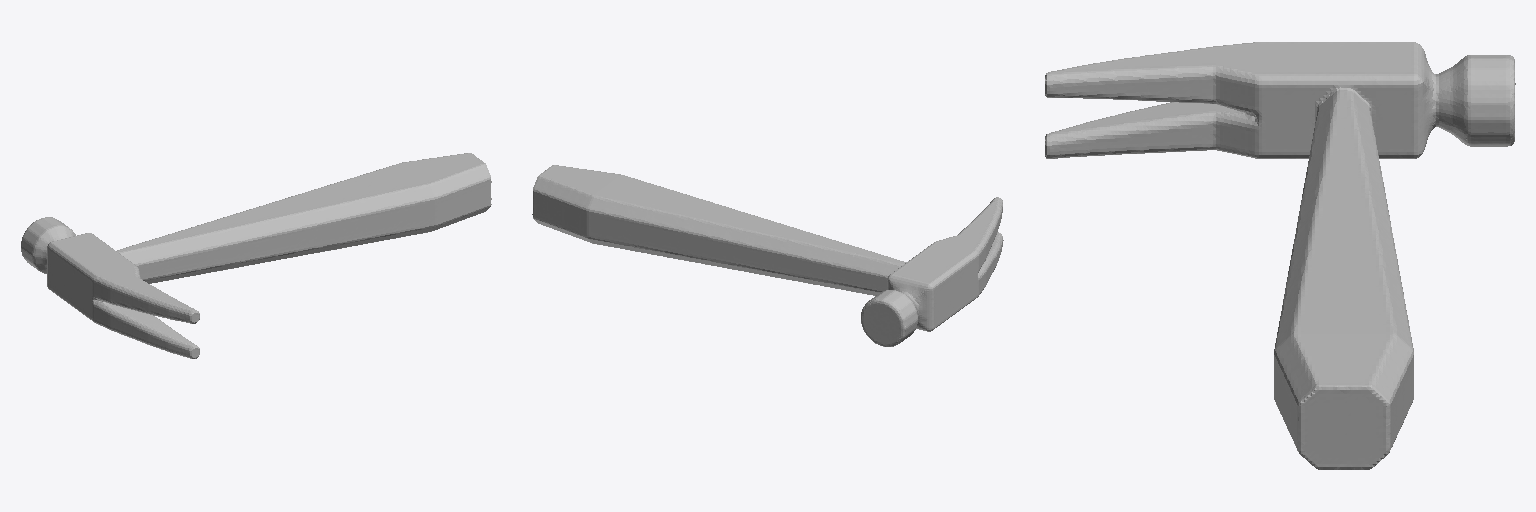
URDF robot description (root):
<robot name="root">
  <link name="link_001">
    <visual>
      <origin xyz="0 0 0" rpy="0 0 0"/>
      <geometry>
        <mesh filename="hammer.obj" scale="0.600E+00 0.600E+00 0.6000E+00"/>
      </geometry>
      <material name="">
        <color rgba="7.50E-01 7.50E-01 7.50E-01 1"/>
      </material>
    </visual>
    <collision>
      <origin xyz="0 0 0" rpy="0 0 0"/>
      <geometry>
        <mesh filename="hammer.obj" scale="0.6000E+00 0.6000E+00 0.6000E+00"/>
      </geometry>
    </collision>
    <inertial>
      <mass value="0.16"/> <!-- 质量：0.1kg -->
    </inertial>
  </link>
</robot>

--- What the picture shows (computed from the rendered views, not written in the file) ---
3 views of the same robot in one strip: view 1: azimuth 30°, elevation 25°; view 2: azimuth 150°, elevation 25°; view 3: azimuth 270°, elevation 25° (orthographic).
Model root with 1 links and 0 joints (none), rooted at link_001, posed all joints at 0.
Links seen in each view (by area): view 1: link_001; view 2: link_001; view 3: link_001.
Link boxes in pixels (x1,y1,x2,y2): link_001: (21,153,491,358); link_001: (532,165,1003,346); link_001: (1045,42,1515,469).
Bounding box of the posed robot: 0.123 × 0.0703 × 0.0139 m (x, y, z).
1 mesh visuals loaded from 1 distinct referenced files (1 OBJ).
